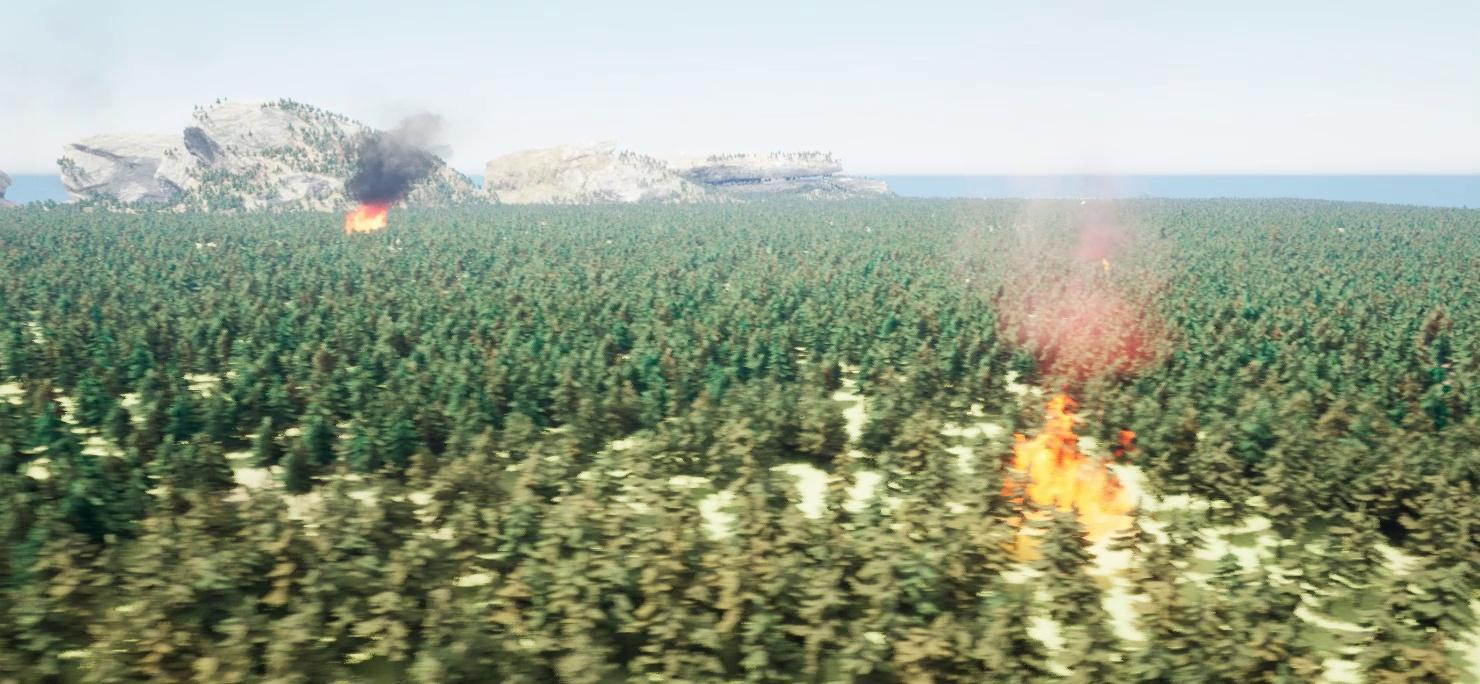fire: (1006, 394, 1136, 530), (340, 203, 389, 229)
smoke: (948, 159, 1180, 382), (347, 113, 456, 204)
